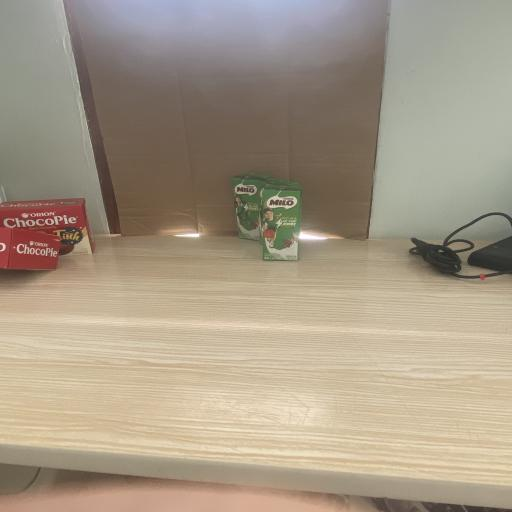chocopie: (0, 198, 95, 257), (0, 226, 60, 269)
milo: (262, 182, 301, 261), (232, 172, 270, 241)
